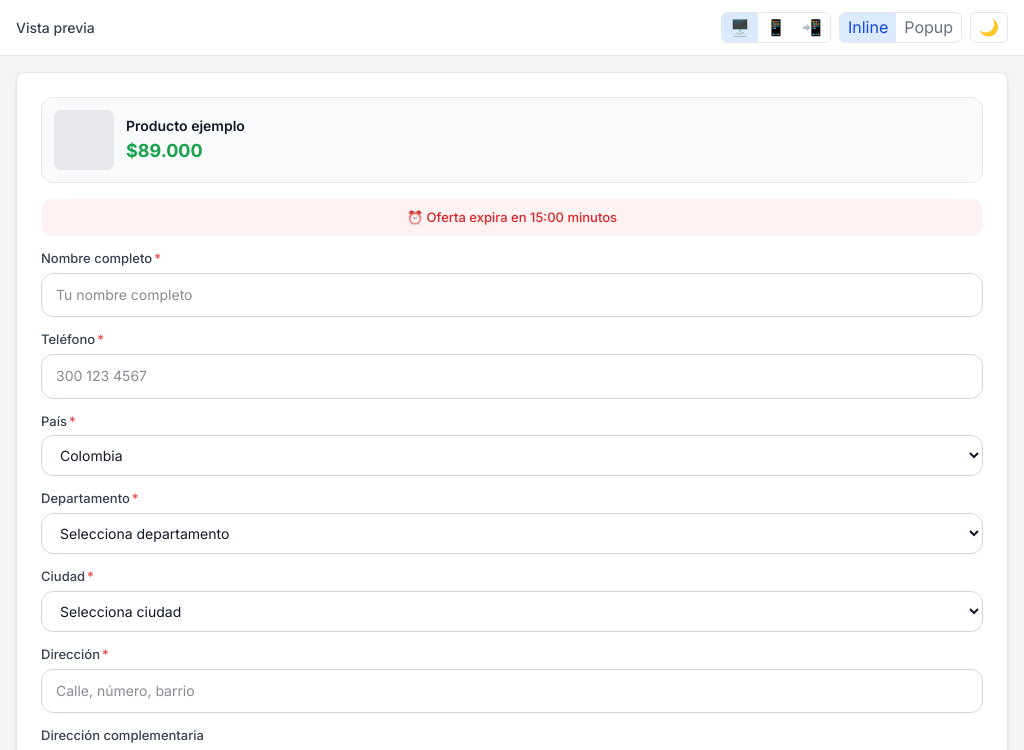
Scenario: FormPreview popup mode › closes popup when close button is clicked
Note: Switch to popup mode and open
Click the button "Popup": x=929, y=28 [896,13,961,42]
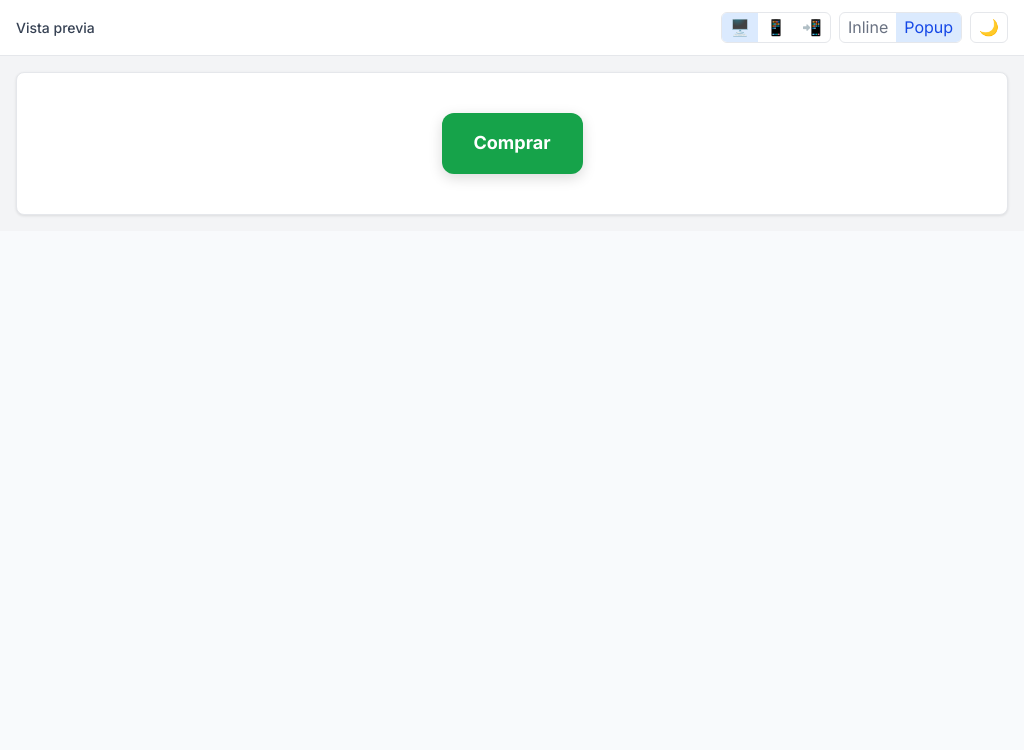
Click the button "Comprar": x=512, y=144 [442,113,582,174]
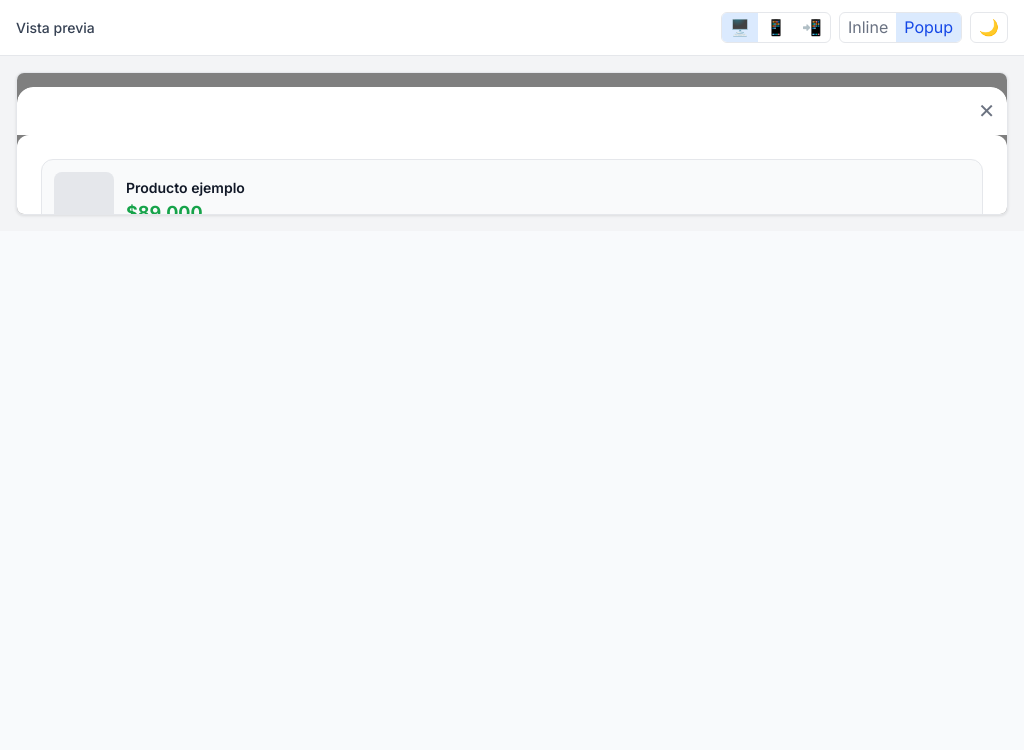
Click the button with test id "popup-close": x=987, y=111 [978,95,995,127]
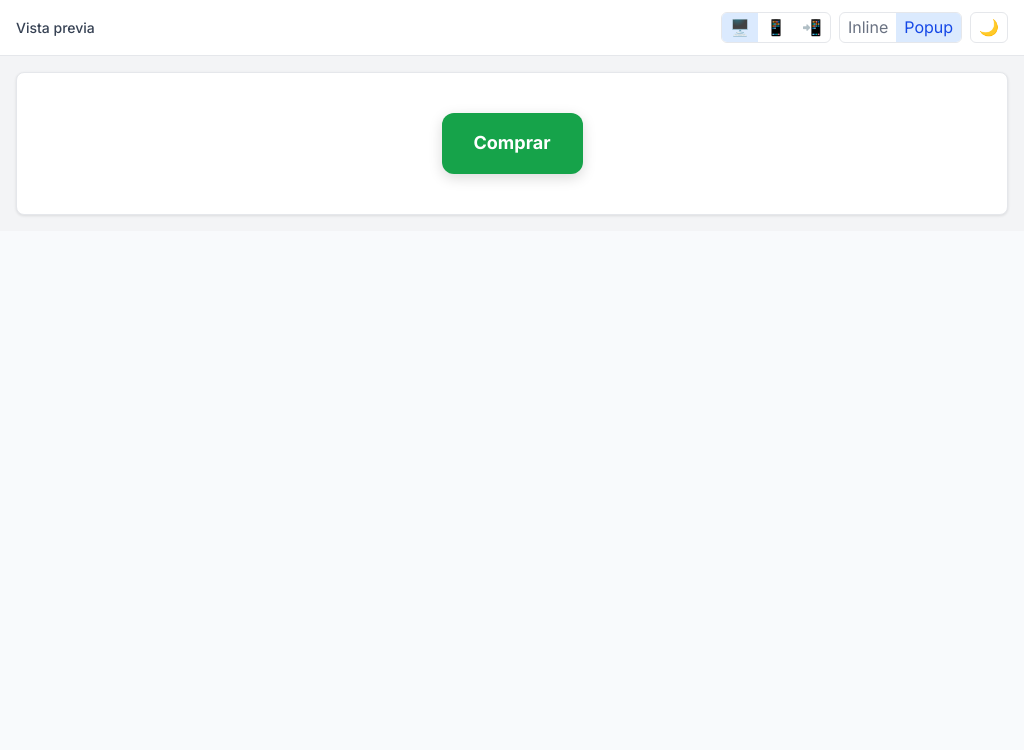
Expected: the element with test id "popup-modal" is gone
